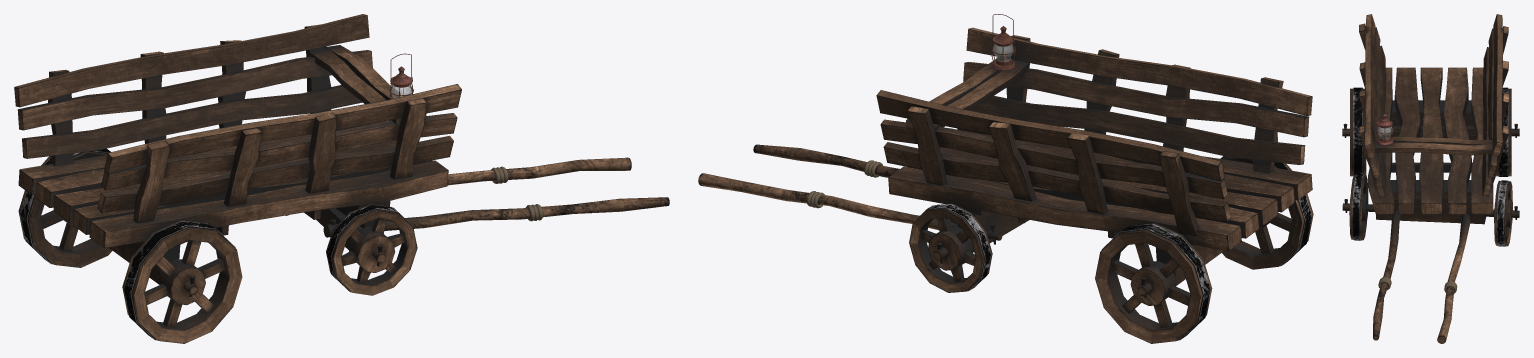
File: stylized_medieval_cart_with_a_lamp.glb
3 views of the same model, side by side, from view 1: azimuth 30°, elevation 25°; view 2: azimuth 150°, elevation 25°; view 3: azimuth 270°, elevation 25° (orthographic). The views are drawn at different scales.
Visible parts, largest first — view 1: Wood_cart_2_0_5, Metal_wheel_2_0_3, Metal_lamp_2_0_2; view 2: Wood_cart_2_0_5, Metal_wheel_2_0_3, Metal_lamp_2_0_2; view 3: Wood_cart_2_0_5, Metal_wheel_2_0_3, Metal_lamp_2_0_2, Rope_2_0_4, Glass_lamp_2_0_1.
Boxes of the visible parts, x1=… form: Wood_cart_2_0_5: x1=14, y1=14, x2=669, y2=343; Metal_wheel_2_0_3: x1=20, y1=148, x2=412, y2=340; Metal_lamp_2_0_2: x1=389, y1=53, x2=413, y2=99; Wood_cart_2_0_5: x1=698, y1=27, x2=1313, y2=343; Metal_wheel_2_0_3: x1=914, y1=156, x2=1312, y2=340; Metal_lamp_2_0_2: x1=991, y1=14, x2=1015, y2=70; Wood_cart_2_0_5: x1=1342, y1=14, x2=1519, y2=343; Metal_wheel_2_0_3: x1=1352, y1=87, x2=1508, y2=246; Metal_lamp_2_0_2: x1=1376, y1=103, x2=1393, y2=145; Rope_2_0_4: x1=1378, y1=277, x2=1457, y2=293; Glass_lamp_2_0_1: x1=1377, y1=126, x2=1392, y2=138.
Size of the model in its own units: 4.88 by 1.73 by 1.86.
6 materials, 6 textured.
